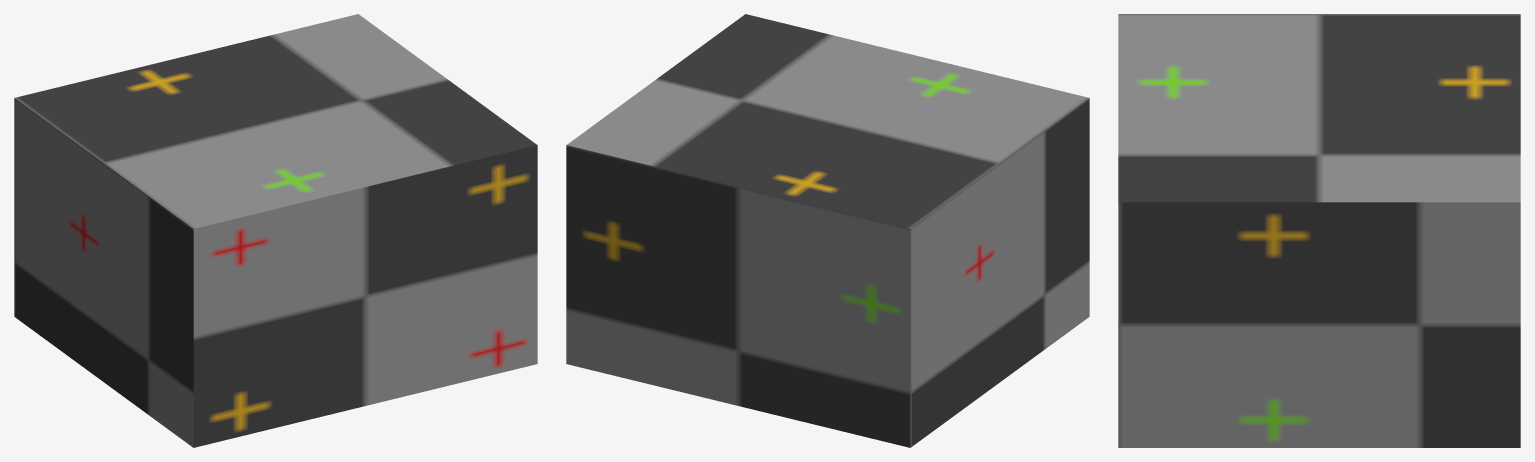
3 renders of one model, left to right at view 1: azimuth 30°, elevation 25°; view 2: azimuth 150°, elevation 25°; view 3: azimuth 270°, elevation 25°, orthographic. The views are drawn at different scales.
Visible parts, largest first — view 1: Cube_040; view 2: Cube_040; view 3: Cube_040.
Part boxes in pixels (<box>): Cube_040: <box>14,14,537,447</box>; Cube_040: <box>566,14,1089,447</box>; Cube_040: <box>1118,14,1520,447</box>.
Size of the model in its own units: 1.72 by 1.05 by 1.55.
Materials: 1 (1 with a texture image).
